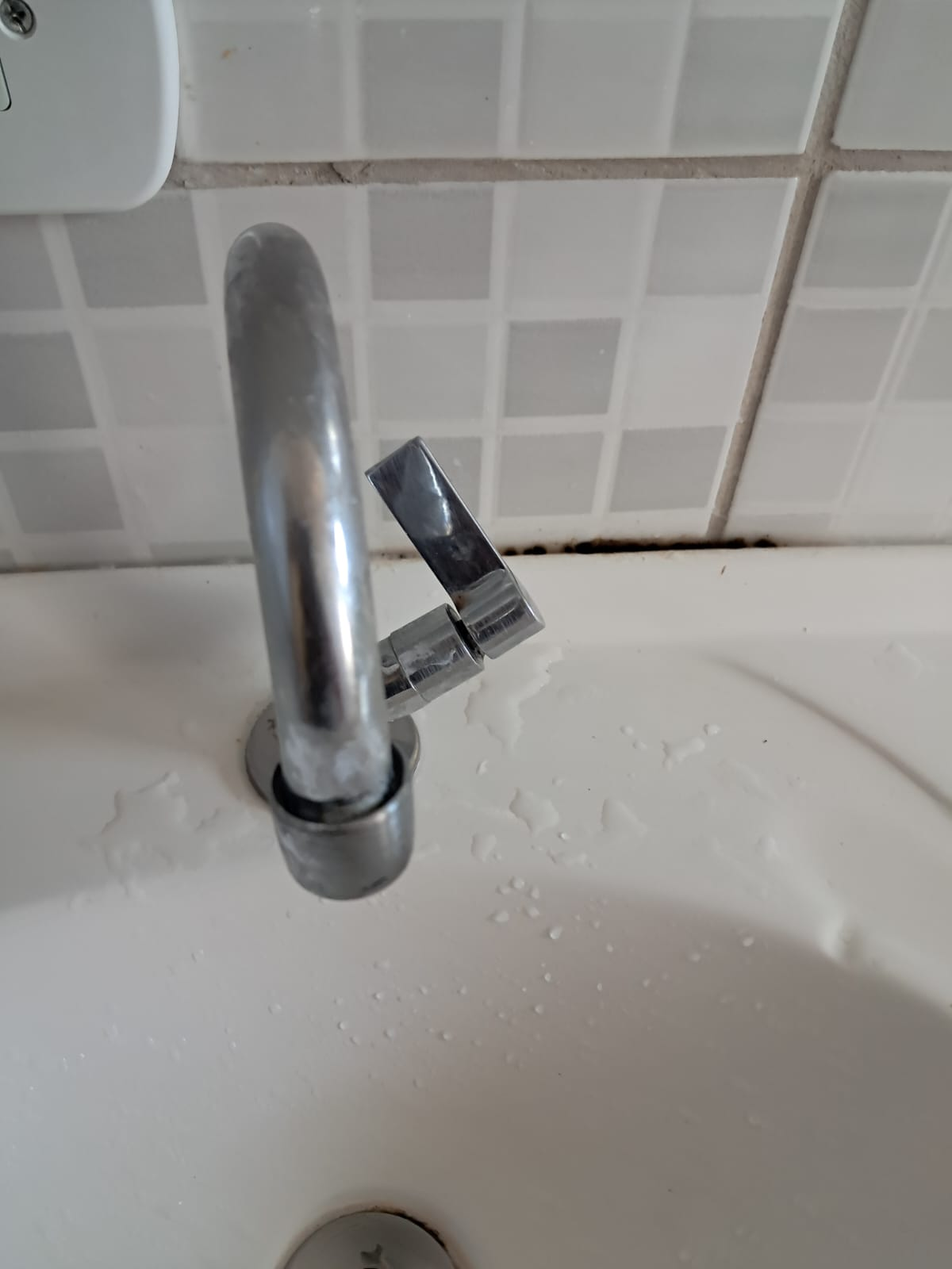torneira_fechada: (87, 218, 564, 935)
